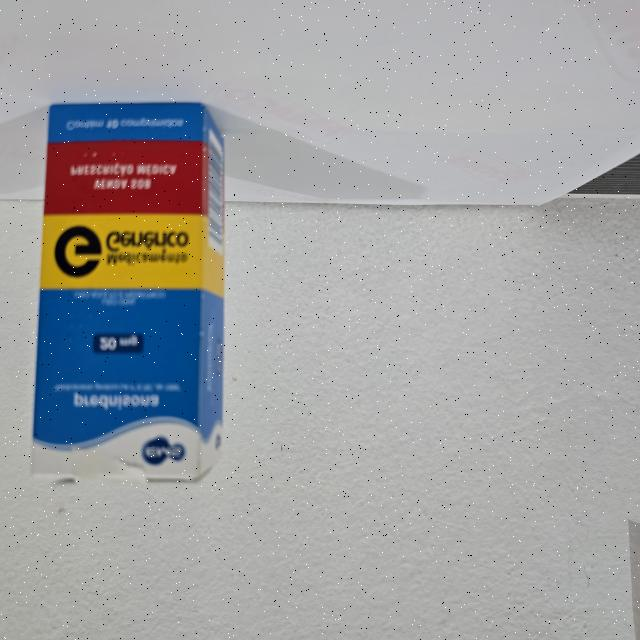prednisona: (25, 96, 230, 491)
